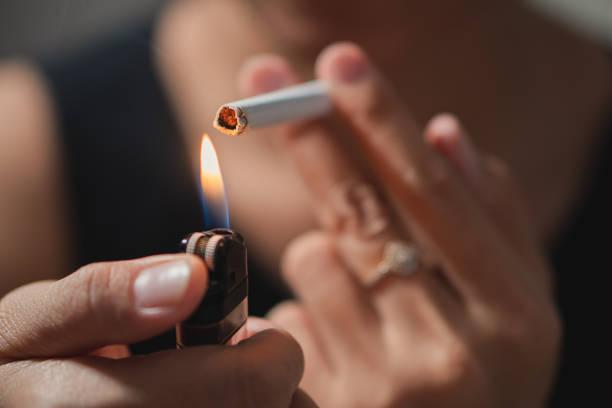Fire: (197, 129, 233, 231)
